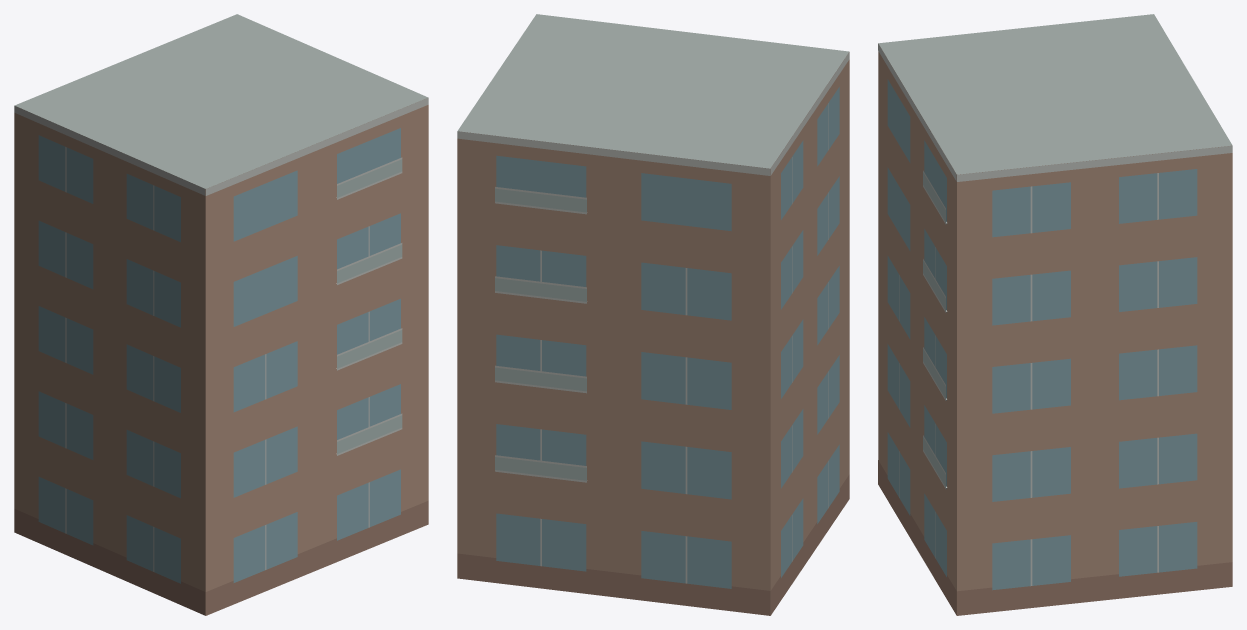
The model's file is survey-upis-32715883.glb.
3 renders of one model, left to right at view 1: azimuth 30°, elevation 25°; view 2: azimuth 150°, elevation 25°; view 3: azimuth 270°, elevation 25°, orthographic. The views are drawn at different scales.
Parts seen in each view (by area): view 1: survey-upis-32715883.tmp; view 2: survey-upis-32715883.tmp; view 3: survey-upis-32715883.tmp.
Boxes of the visible parts, bbox=[...] form: survey-upis-32715883.tmp: bbox=[14, 14, 428, 615]; survey-upis-32715883.tmp: bbox=[457, 14, 849, 615]; survey-upis-32715883.tmp: bbox=[878, 14, 1232, 615].
Size of the model in its own units: 11.5 by 14.7 by 10.72.
